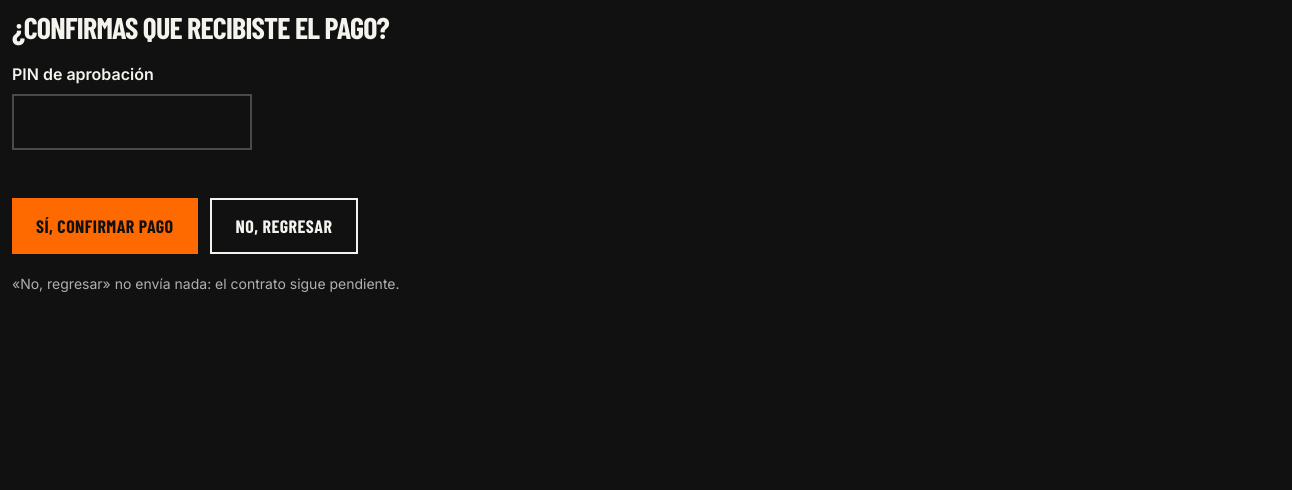
Test: ConfirmTransferForm (RF-11) › si el enlace se invalida, ofrece regenerarlo con la referencia
In the password field labelled "PIN de aprobación": (132, 122) [12,94,252,150], type "111222"
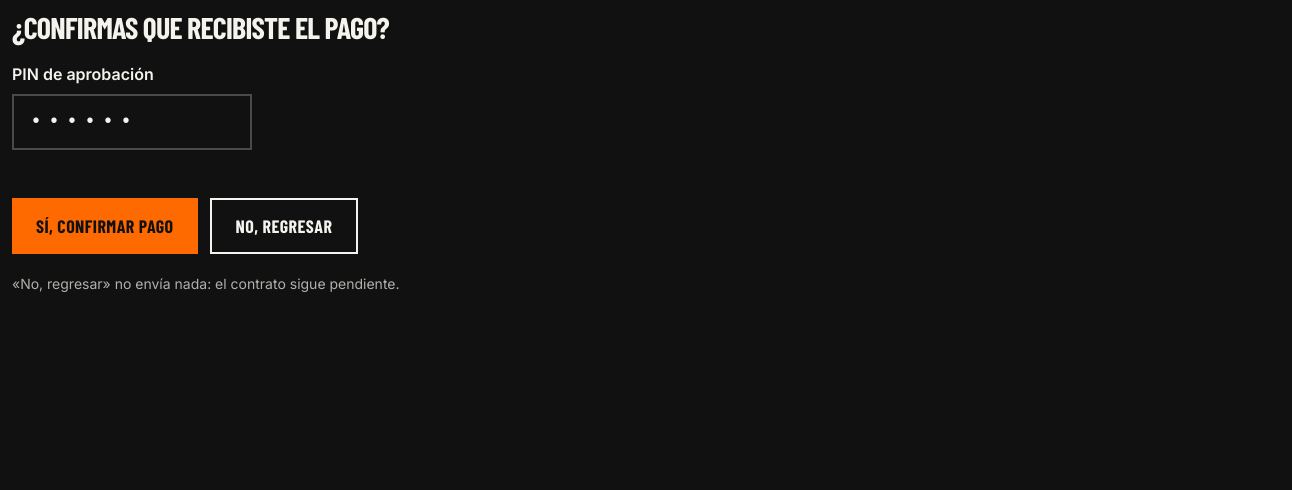
Click the button "Sí, confirmar pago": (105, 226) [12,198,198,254]
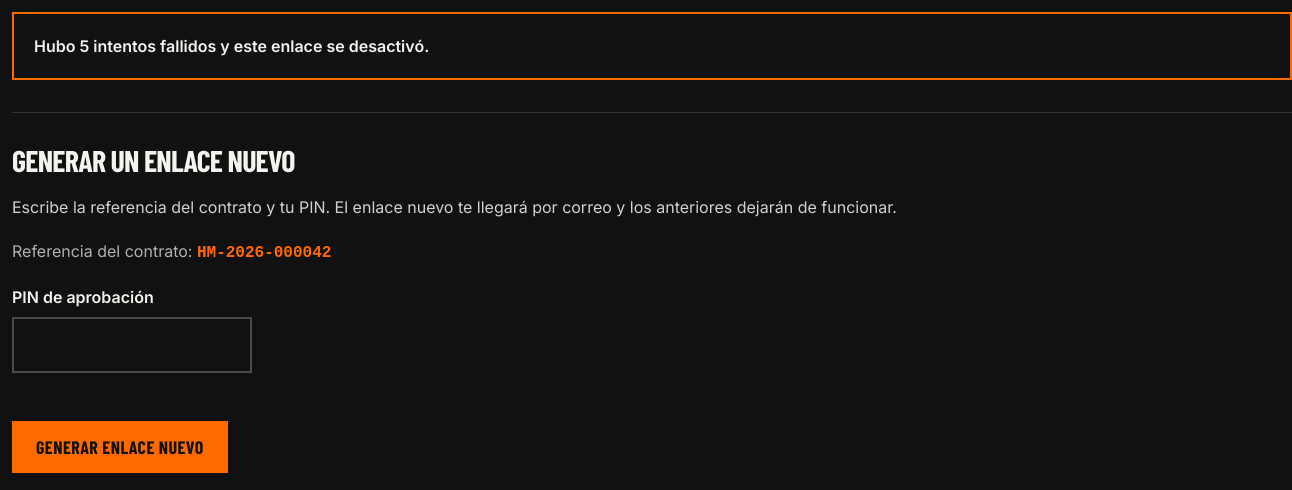
Expected: the heading "Generar un enlace nuevo" is shown, [12,142,295,178]
Expected: the text "HM-2026-000042" is shown, [197,244,331,262]
In the password field labelled "PIN de aprobación": (132, 345) [12,317,252,373], type "482917"
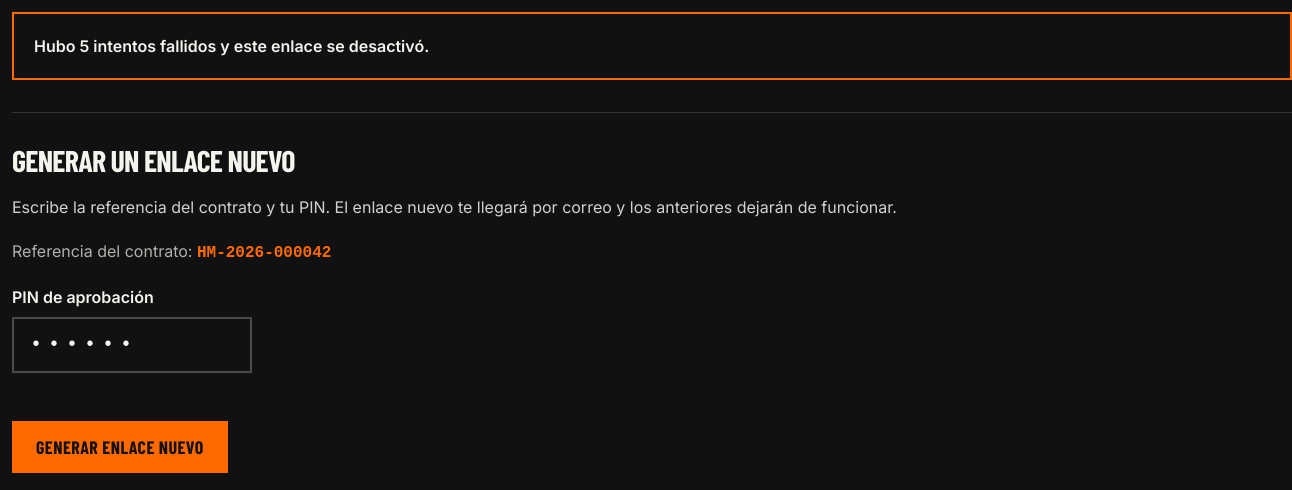
Click the button "Generar enlace nuevo": (120, 447) [12,421,228,473]
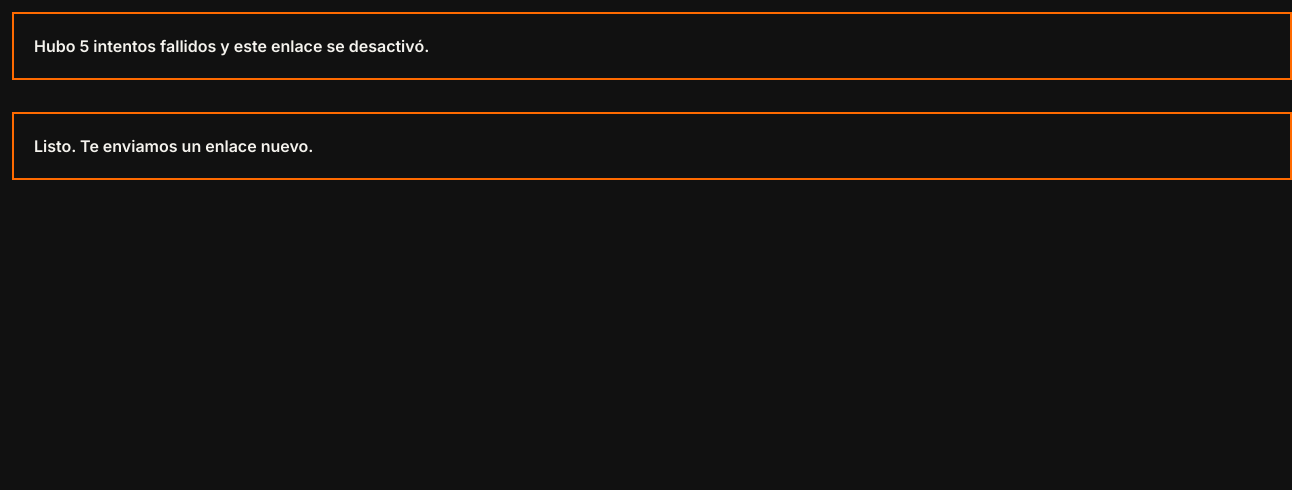
Expected: the text "Listo. Te enviamos un enlace nuevo." is shown, [12,112,1291,180]
